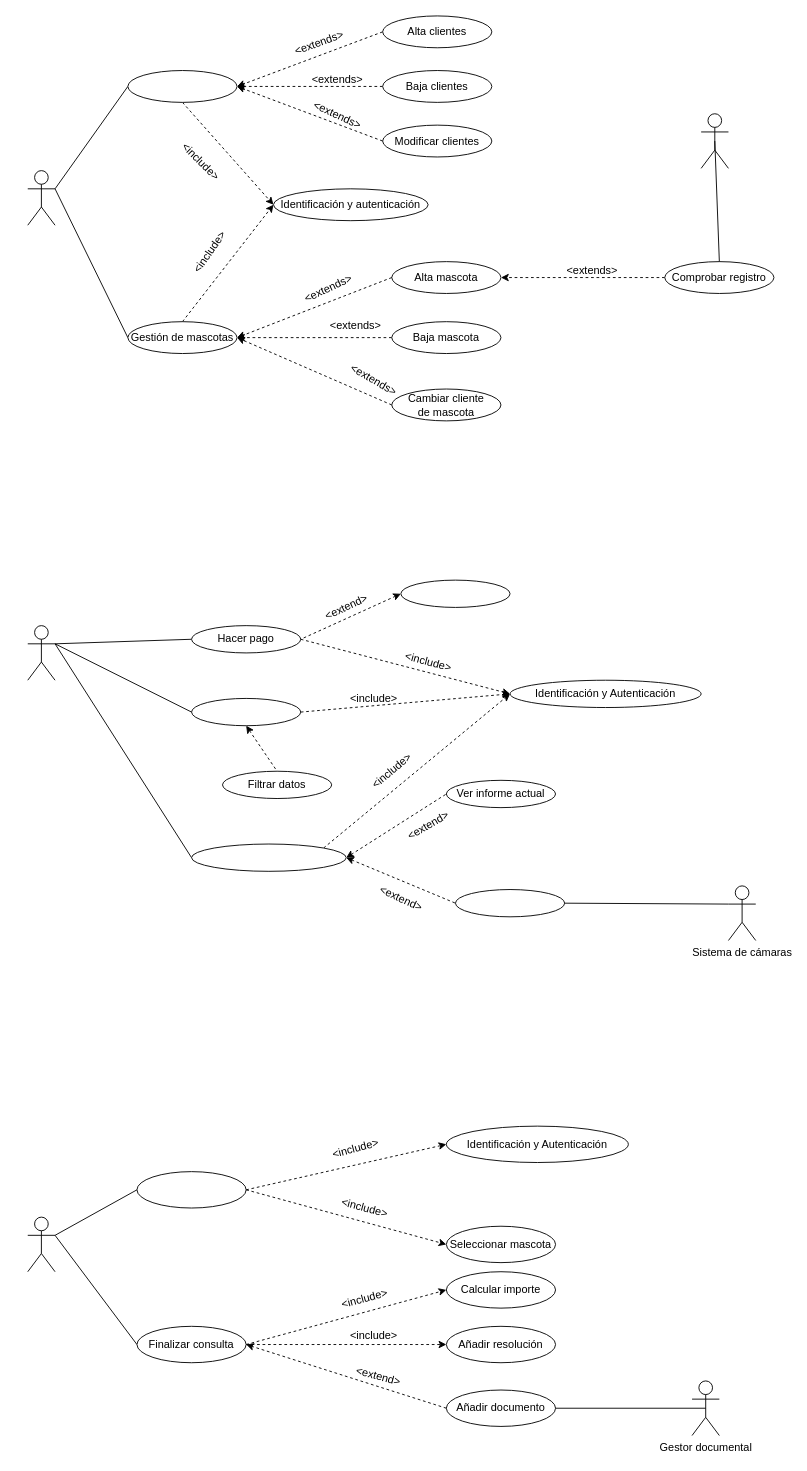
Some shapes in this 807 by 1471 pixel diagram are drawn without their labels. Here are the shapes that lost their labels. From the top down, the box of each, then its label:
(127, 70, 237, 102): Gestión de clientes
(700, 113, 728, 168): REIAC
(27, 170, 55, 225): Auxiliar
(400, 579, 510, 607): Calculad recargo
(27, 625, 55, 680): Cliente
(191, 698, 301, 726): Obtener histórico
(191, 843, 346, 871): Ver mascota ingresada
(455, 889, 565, 917): Visualizar animal
(136, 1171, 246, 1208): Comenzar consulta
(27, 1216, 55, 1272): Veterinario
